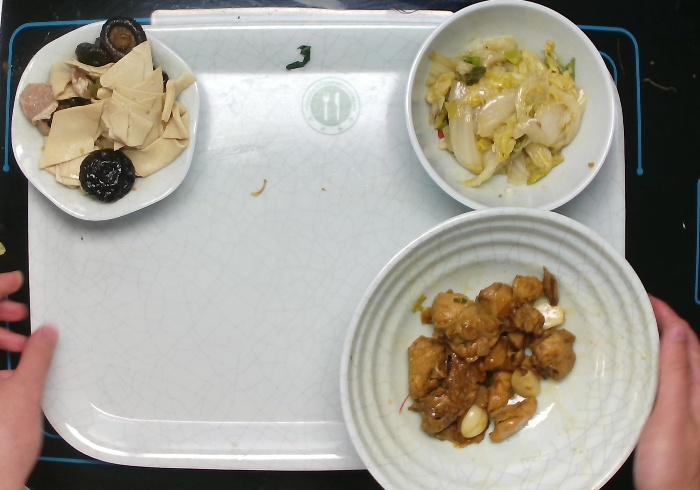JYsf-Da_Tang_Wan: (337, 198, 665, 490)
JYsf-Fan_Wan: (404, 1, 618, 218)
WCQzf-Hua_Duo_Wan: (9, 16, 193, 227)
